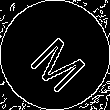M_NE: (21, 21, 89, 89)
